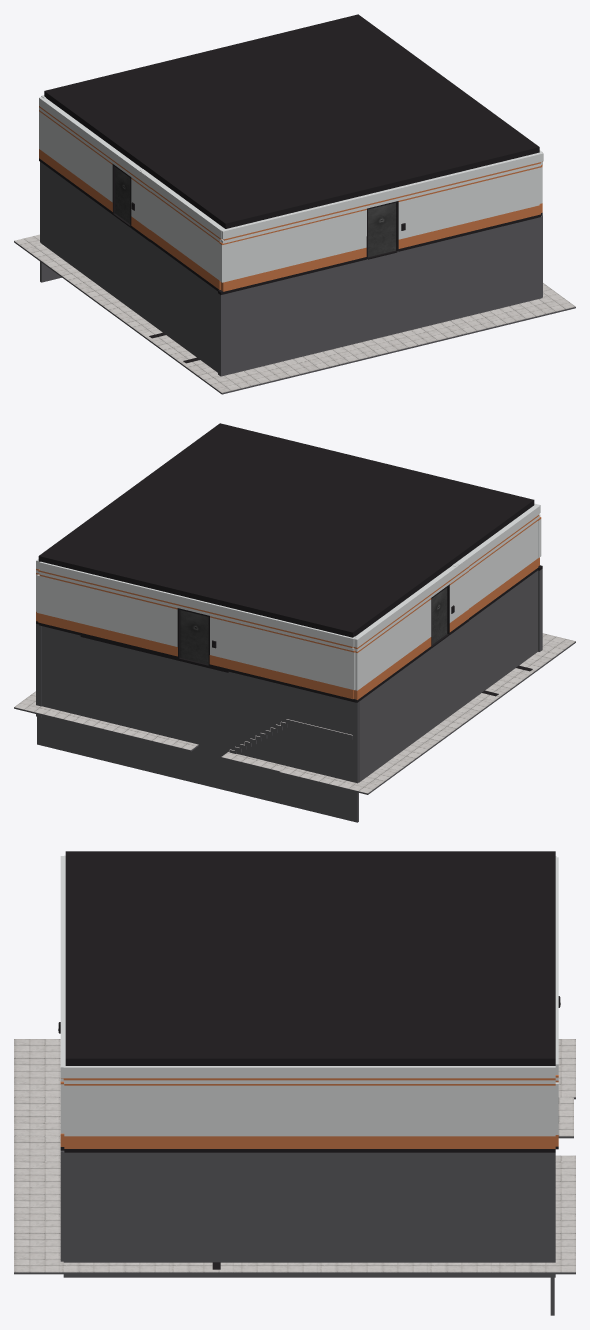
Rendered from SCP Server Room.obj.
The picture shows the model from 3 angles, top to bottom: view 1: azimuth 30°, elevation 25°; view 2: azimuth 150°, elevation 25°; view 3: azimuth 270°, elevation 25°; orthographic projection. The views are drawn at different scales.
Visible parts, largest first — view 1: Part87, Part651, Part1359, Part655, Part37, Part84, Part159, Part1366, Part653, Part1, Part105, Door5 (+21 smaller); view 2: Part87, Part118, Part1359, Part1357, Part145, Part143, Part159, Part1366, Part105, Part1355, Part146, Door3 (+8 smaller); view 3: Part87, Part21, Part62, Part15, Part19, Part61, Part14, Part20, Part84, Part16, Part60, Part550 (+15 smaller).
Boxes of the visible parts, left/top/right/bottom form: Part87: left=44, top=14, right=539, bottom=228; Part651: left=218, top=216, right=542, bottom=376; Part1359: left=40, top=162, right=217, bottom=372; Part655: left=219, top=210, right=366, bottom=282; Part37: left=398, top=168, right=539, bottom=239; Part84: left=220, top=152, right=543, bottom=239; Part159: left=39, top=111, right=112, bottom=202; Part1366: left=150, top=192, right=219, bottom=279; Part653: left=220, top=247, right=366, bottom=291; Part1: left=398, top=204, right=540, bottom=248; Part105: left=39, top=97, right=150, bottom=187; Door5: left=368, top=202, right=396, bottom=257; Part87: left=38, top=423, right=534, bottom=637; Part118: left=37, top=626, right=358, bottom=822; Part1359: left=358, top=570, right=537, bottom=782; Part1357: left=210, top=617, right=355, bottom=690; Part145: left=37, top=574, right=177, bottom=646; Part143: left=39, top=561, right=356, bottom=646; Part159: left=355, top=599, right=431, bottom=690; Part1366: left=469, top=521, right=537, bottom=608; Part105: left=354, top=558, right=469, bottom=647; Part1355: left=209, top=655, right=353, bottom=699; Part146: left=38, top=613, right=177, bottom=656; Door3: left=180, top=610, right=208, bottom=664; Part87: left=65, top=851, right=555, bottom=1065; Part21: left=63, top=1151, right=555, bottom=1277; Part62: left=301, top=1085, right=555, bottom=1136; Part15: left=64, top=1085, right=301, bottom=1136; Part19: left=63, top=1064, right=555, bottom=1078; Part61: left=301, top=1136, right=555, bottom=1148; Part14: left=64, top=1136, right=301, bottom=1148; Part20: left=63, top=1078, right=555, bottom=1080; Part84: left=60, top=856, right=65, bottom=1077; Part16: left=64, top=1080, right=351, bottom=1083; Part60: left=301, top=1149, right=555, bottom=1152; Part550: left=14, top=1116, right=59, bottom=1136.
Bounding box in the file's own units: 55.2 × 28.21 × 56.2.
Materials: 12 (4 with a texture image).
